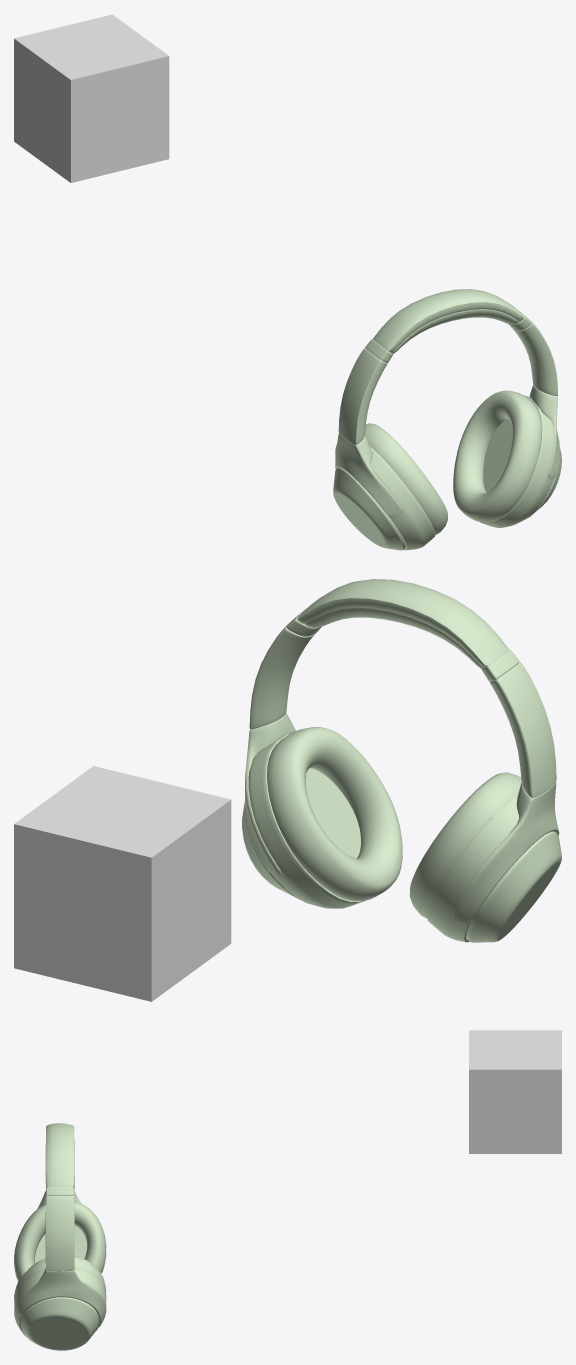
File: ThreejsScene (8).glb
3 renders of one model, top to bottom at view 1: azimuth 30°, elevation 25°; view 2: azimuth 150°, elevation 25°; view 3: azimuth 270°, elevation 25°, orthographic. The views are drawn at different scales.
Parts seen in each view (by area): view 1: уховнешнее001, object 1; view 2: уховнешнее001, object 1; view 3: уховнешнее001, object 1.
Part boxes in pixels (left/top/right/bottom): уховнешнее001: left=333, top=289, right=561, bottom=550; object 1: left=14, top=14, right=169, bottom=182; уховнешнее001: left=242, top=579, right=561, bottom=942; object 1: left=14, top=766, right=231, bottom=1001; уховнешнее001: left=14, top=1123, right=106, bottom=1350; object 1: left=469, top=1030, right=561, bottom=1153.
Bounding box in the file's own units: 4.73 × 5.84 × 11.79.
